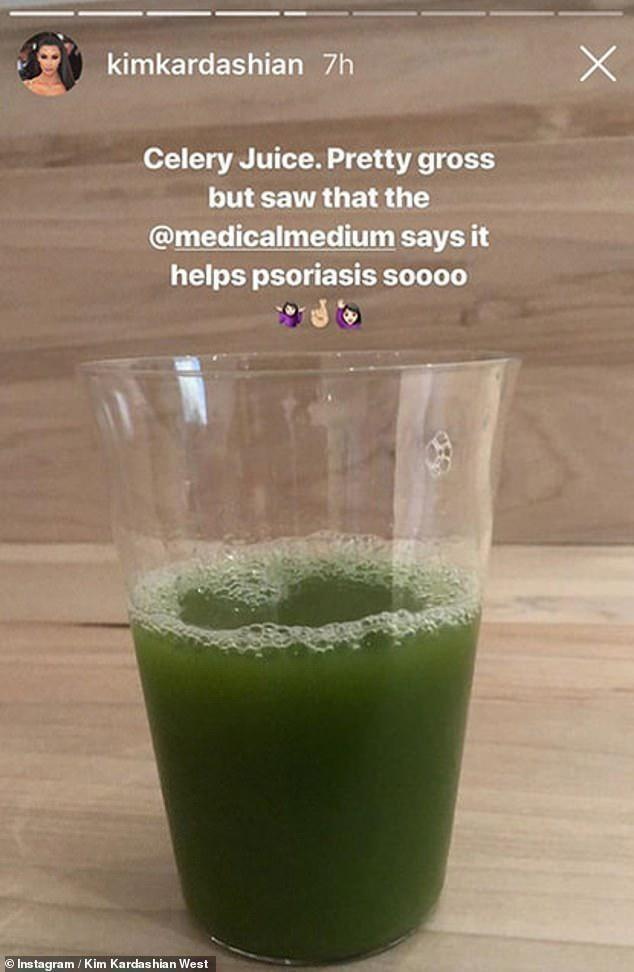glass-normal: (76, 349, 517, 969)
